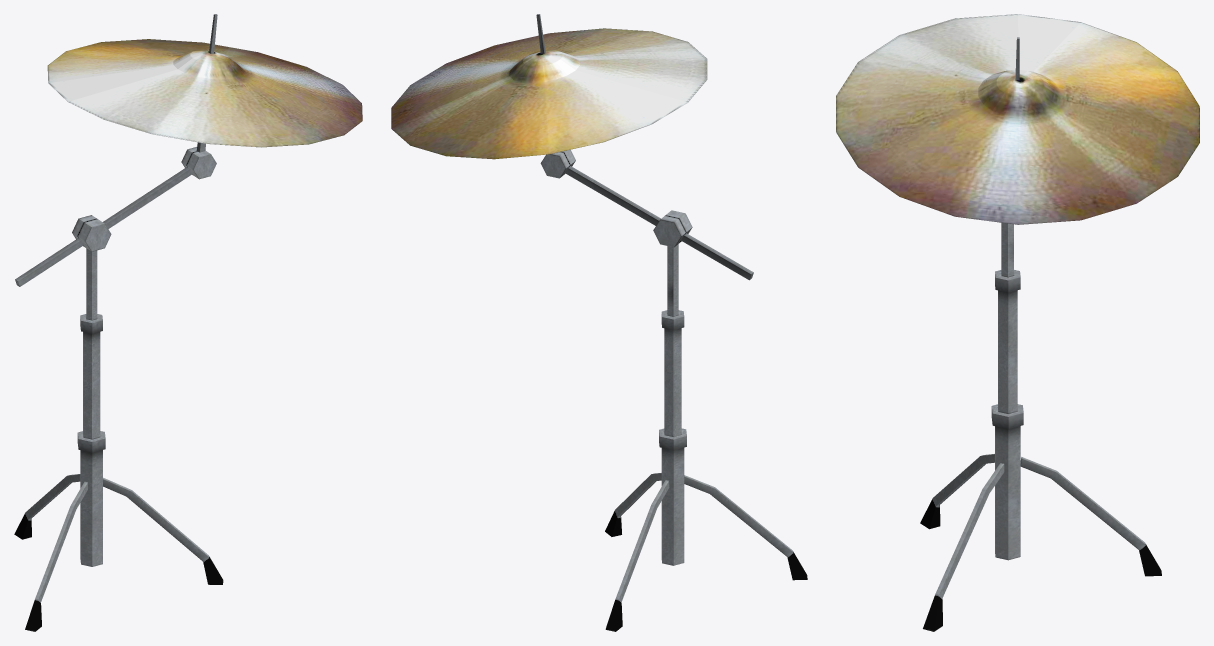
The model's file is LIH0210017.fbx.
The picture shows the model from 3 angles, left to right: view 1: azimuth 30°, elevation 25°; view 2: azimuth 150°, elevation 25°; view 3: azimuth 270°, elevation 25°; orthographic projection. The views are drawn at different scales.
Parts seen in each view (by area): view 1: smLIH0210017; view 2: smLIH0210017; view 3: smLIH0210017.
Part boxes in pixels (x1,y1,x2,y2): smLIH0210017: (14, 14, 362, 631); smLIH0210017: (391, 14, 807, 631); smLIH0210017: (836, 14, 1199, 631).
Bounding box in the file's own units: 94.13 × 135 × 72.71.
1 material, 1 textured.
